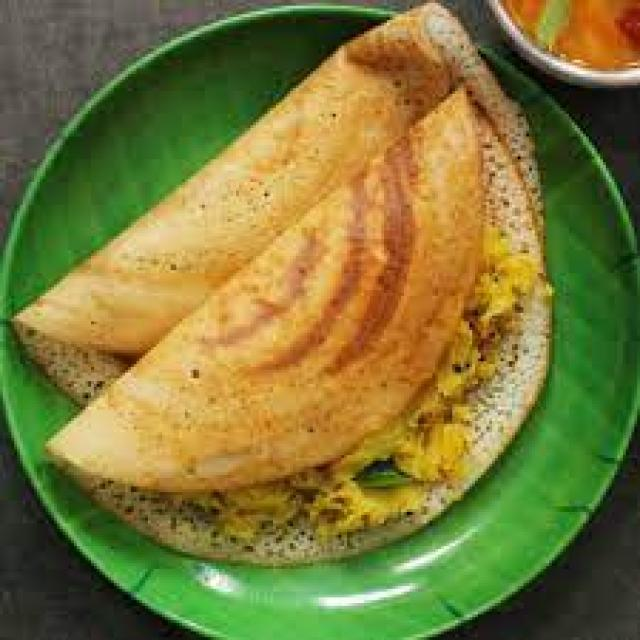Wet Waste: (49, 100, 564, 543), (20, 29, 520, 412)
